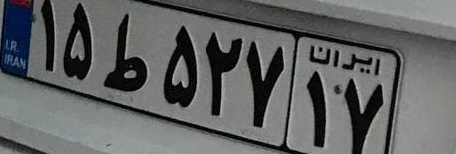character: (99, 10, 152, 98), (244, 35, 287, 134), (160, 17, 199, 115), (205, 27, 243, 124), (342, 74, 386, 154), (60, 2, 97, 85), (302, 66, 334, 150), (36, 1, 62, 76)
